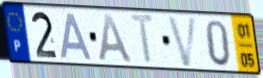0: (203, 18, 233, 68)
2: (30, 10, 59, 60)
A: (97, 12, 135, 65), (59, 11, 95, 62)
T: (128, 12, 158, 67)
V: (165, 15, 199, 69)
